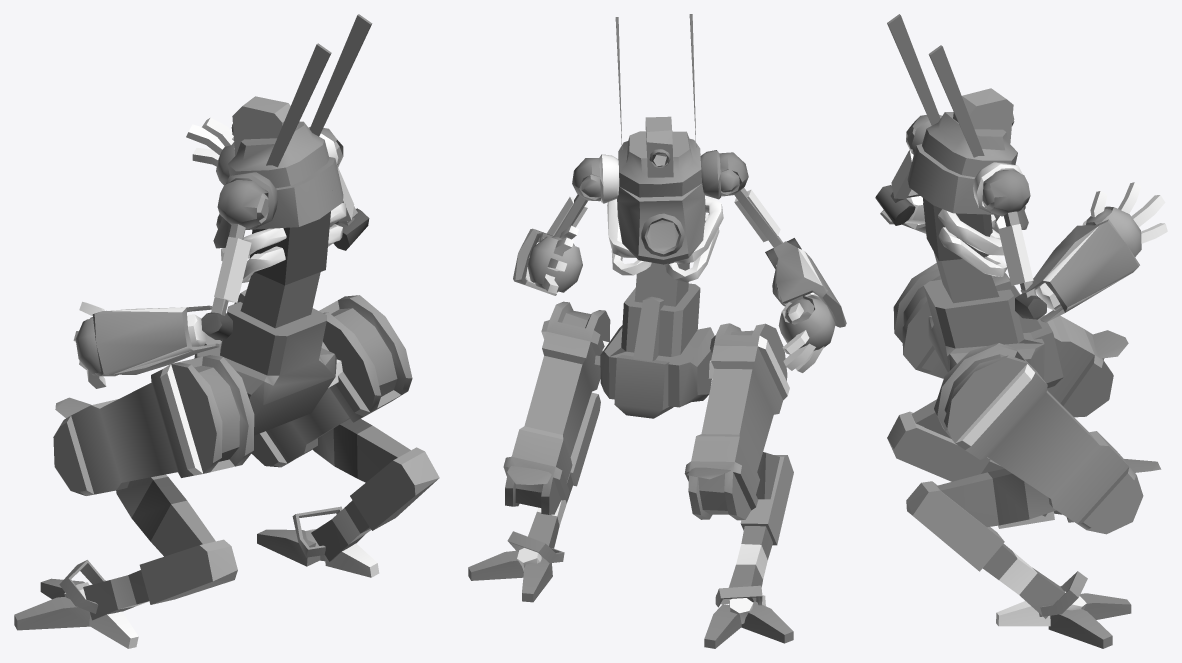
The model's file is packer.glb.
3 views of the same model, side by side, from view 1: azimuth 30°, elevation 25°; view 2: azimuth 150°, elevation 25°; view 3: azimuth 270°, elevation 25° (orthographic). The views are drawn at different scales.
Parts seen in each view (by area): view 1: Body; view 2: Body; view 3: Body.
Boxes of the visible parts, x1,y1,x2,y2 form: Body: [14, 14, 439, 648]; Body: [468, 14, 846, 648]; Body: [875, 14, 1167, 648].
Size of the model in its own units: 5.51 by 9 by 4.17.
2 materials, 1 textured.
